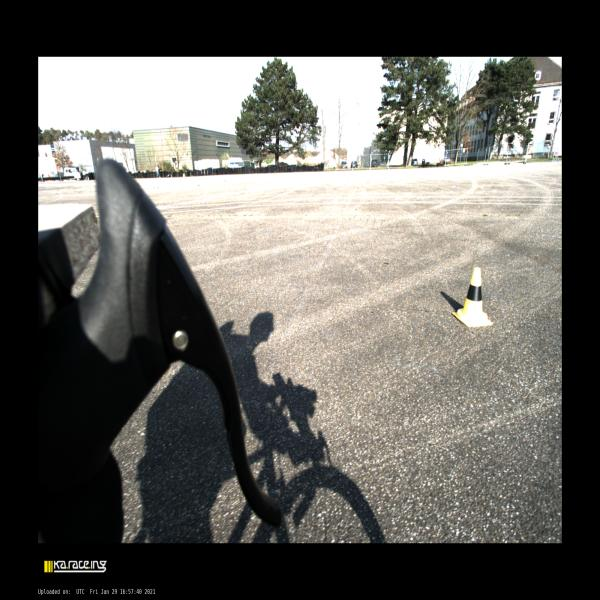yellow_cone: (452, 267, 494, 330)
